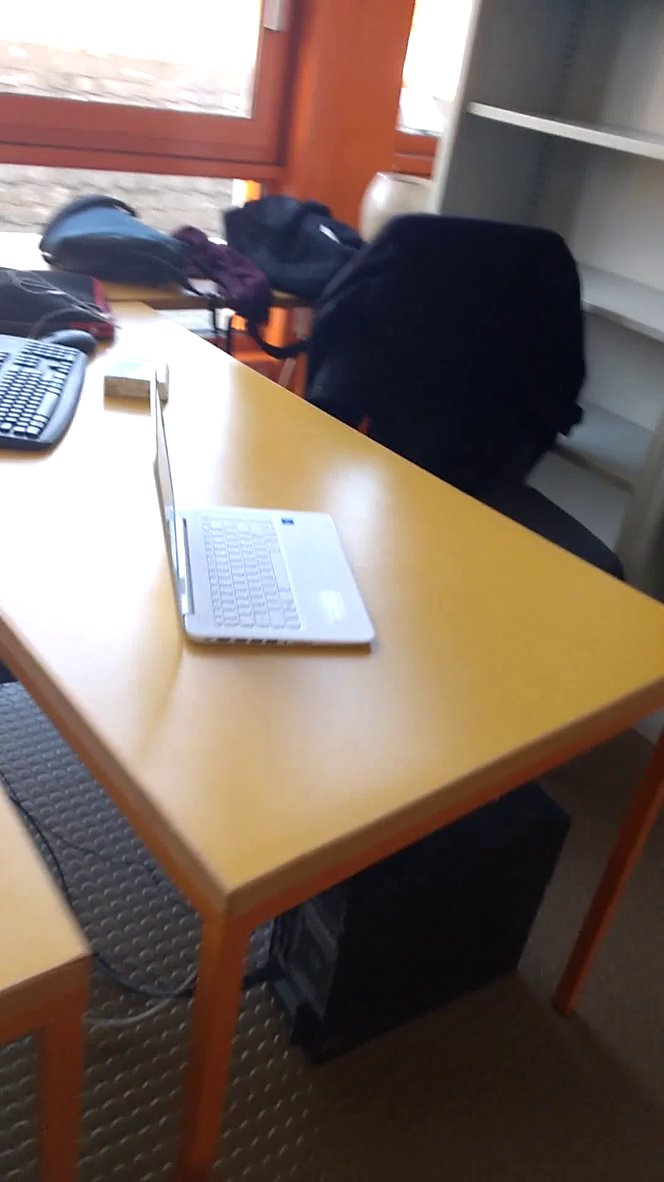bag: (215, 186, 391, 302), (31, 187, 201, 296)
chair: (297, 200, 599, 502)
laptop: (136, 366, 392, 674)
